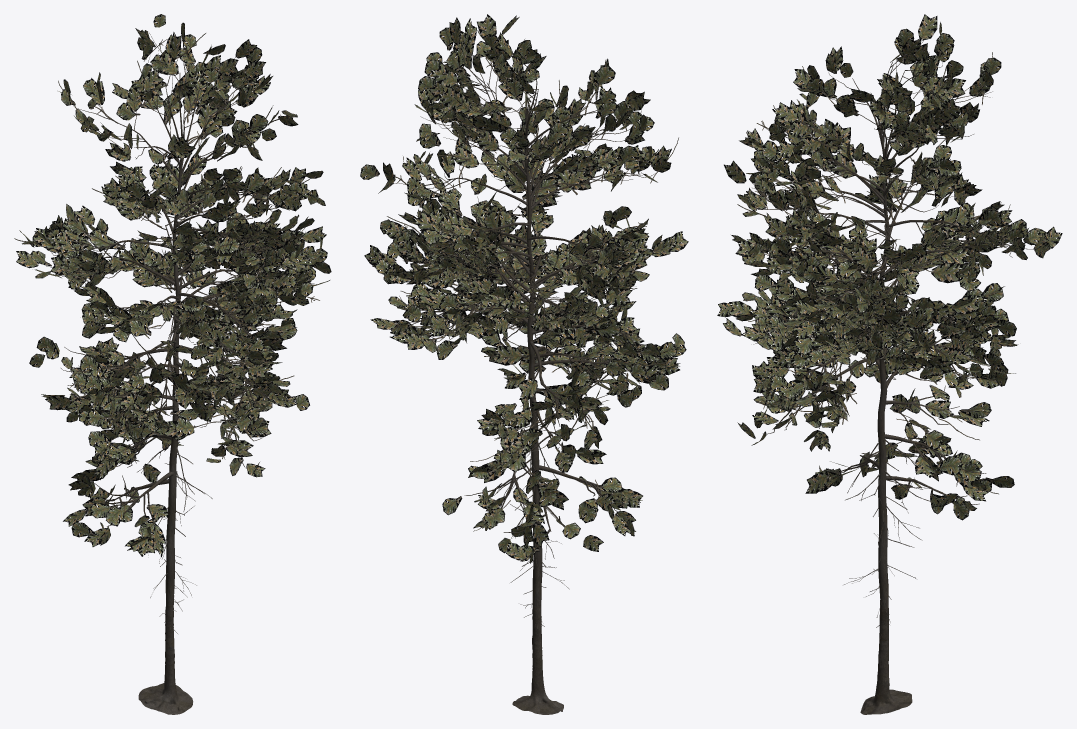
Rendered from pine_c.glb.
3 renders of one model, left to right at view 1: azimuth 30°, elevation 25°; view 2: azimuth 150°, elevation 25°; view 3: azimuth 270°, elevation 25°, orthographic. The views are drawn at different scales.
Visible parts, largest first — view 1: pine_tree_01_c_LOD2; view 2: pine_tree_01_c_LOD2; view 3: pine_tree_01_c_LOD2.
Part boxes in pixels (x1,y1,x2,y2): pine_tree_01_c_LOD2: [14, 14, 331, 714]; pine_tree_01_c_LOD2: [360, 14, 688, 714]; pine_tree_01_c_LOD2: [717, 14, 1062, 714].
Bounding box in the file's own units: 7.98 × 17.5 × 7.86.
4 materials, 4 textured.
